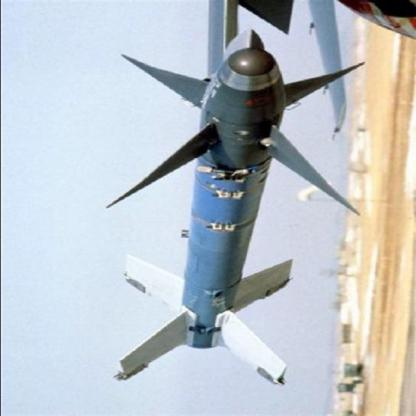MIL_TBM: (176, 37, 290, 356)
